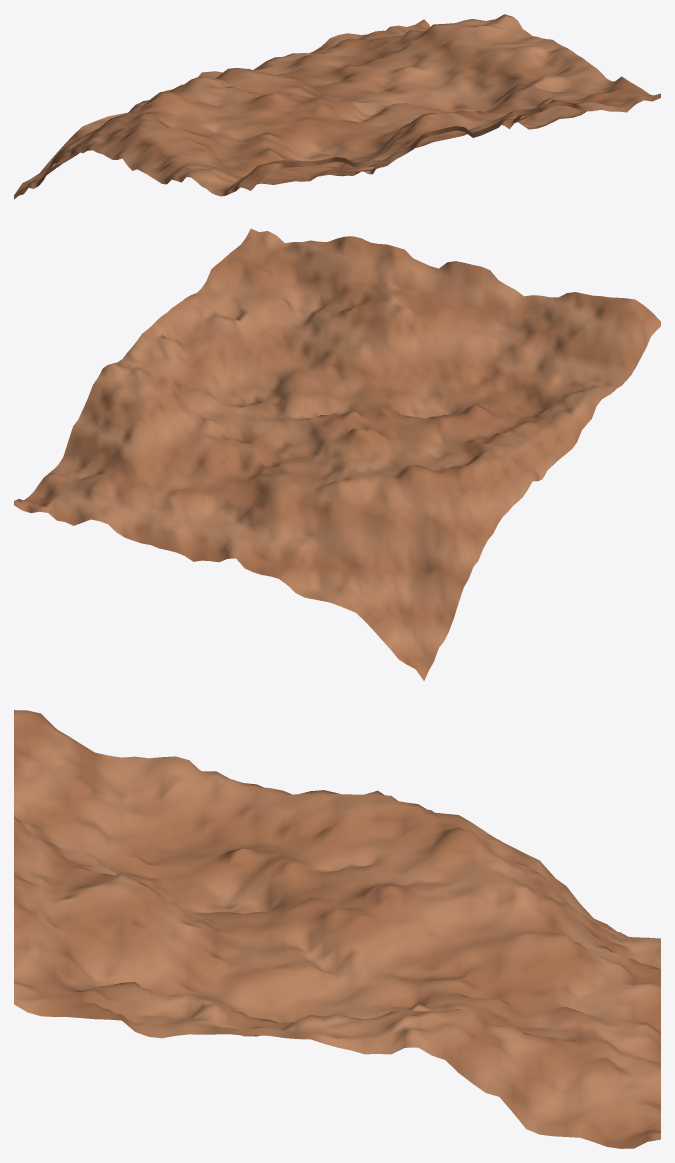
The model's file is terrain-052.glb.
The picture shows the model from 3 angles, top to bottom: view 1: azimuth 30°, elevation 25°; view 2: azimuth 150°, elevation 25°; view 3: azimuth 270°, elevation 25°; orthographic projection. The views are drawn at different scales.
Visible parts, largest first — view 1: terrain-052; view 2: terrain-052; view 3: terrain-052.
Part boxes in pixels (left/top/right/bottom): terrain-052: left=14, top=14, right=660, bottom=199; terrain-052: left=14, top=228, right=660, bottom=680; terrain-052: left=14, top=710, right=660, bottom=1148.
Size of the model in its own units: 384 by 181 by 384.
